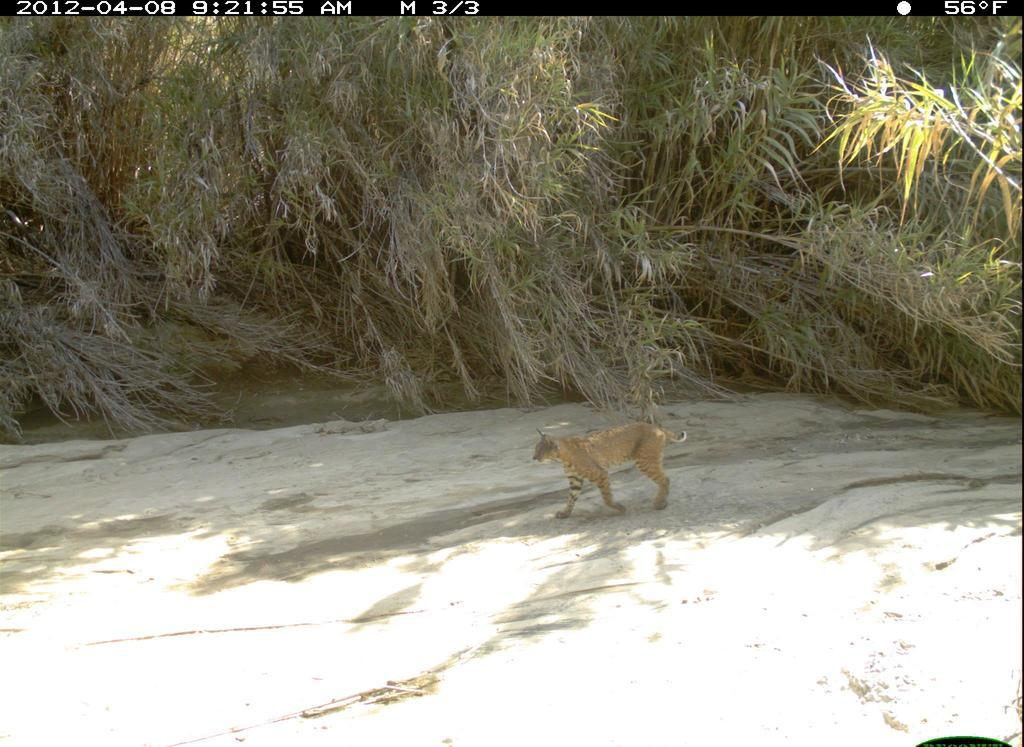bobcat: (524, 417, 696, 541)
